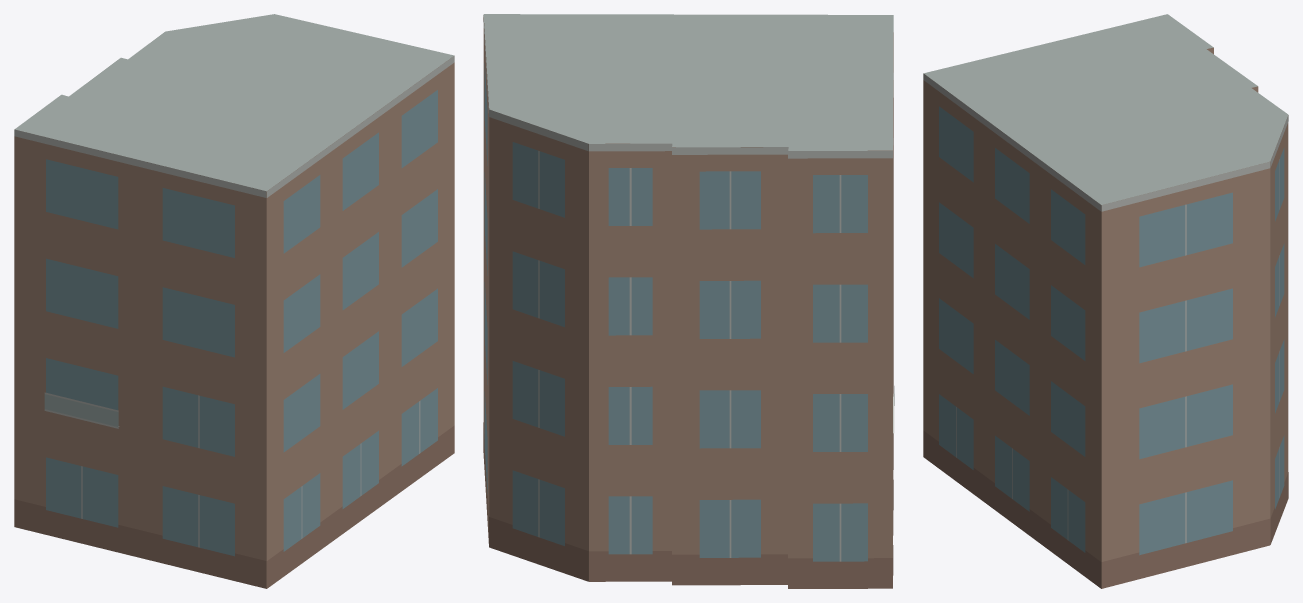
File: survey-upis-32486262.glb
The picture shows the model from 3 angles, left to right: view 1: azimuth 30°, elevation 25°; view 2: azimuth 150°, elevation 25°; view 3: azimuth 270°, elevation 25°; orthographic projection. The views are drawn at different scales.
Parts seen in each view (by area): view 1: survey-upis-32486262.tmp; view 2: survey-upis-32486262.tmp; view 3: survey-upis-32486262.tmp.
Part boxes in pixels (box(x1,y1,x2,y2)): survey-upis-32486262.tmp: box(14, 14, 454, 588); survey-upis-32486262.tmp: box(483, 14, 894, 588); survey-upis-32486262.tmp: box(923, 14, 1288, 588).
Bounding box in the file's own units: 15.07 × 14.1 × 12.17.
